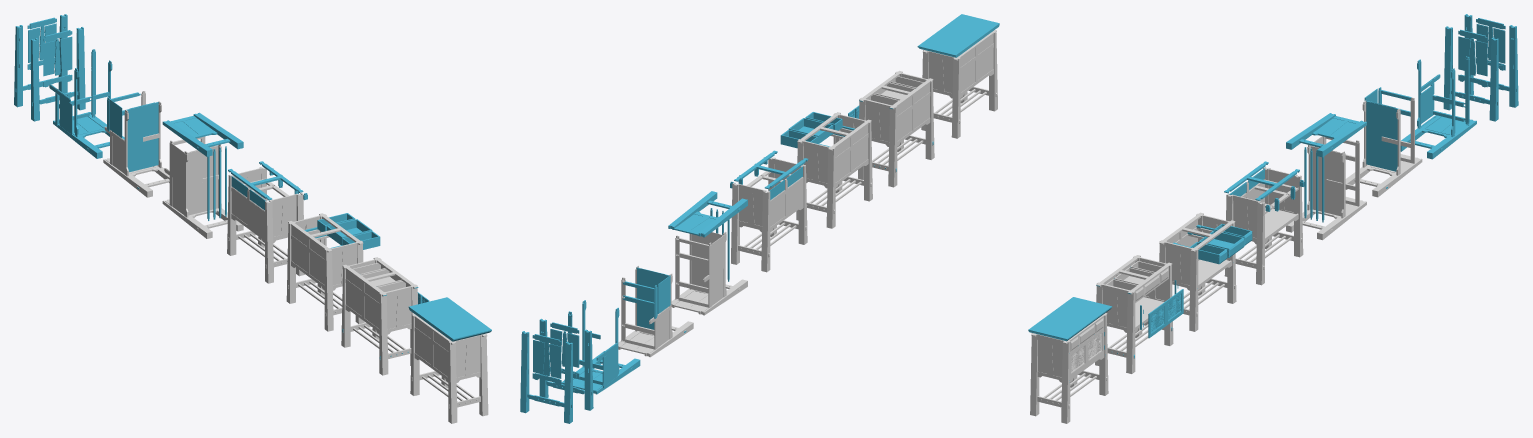
The model's file is build.glb.
3 views of the same model, side by side, from view 1: azimuth 30°, elevation 25°; view 2: azimuth 150°, elevation 25°; view 3: azimuth 330°, elevation 25° (orthographic). The views are drawn at different scales.
Parts seen in each view (by area): view 1: eight.003, six.072, four.021, seven.004, five.029, one.014, three.004, two.012; view 2: eight.003, six.072, five.029, four.021, seven.004, one.014, three.004, two.012; view 3: eight.003, seven.004, five.029, six.072, four.021, one.014, three.004, two.012.
Boxes of the visible parts, box(x1,y1,x2,y2) form: eight.003: box(408, 297, 491, 423); six.072: box(286, 213, 380, 331); four.021: box(162, 112, 243, 238); seven.004: box(341, 257, 429, 375); five.029: box(227, 161, 307, 283); one.014: box(14, 14, 85, 121); three.004: box(103, 91, 169, 197); two.012: box(49, 49, 124, 158); eight.003: box(917, 14, 999, 138); six.072: box(780, 112, 872, 228); five.029: box(730, 150, 808, 272); four.021: box(668, 191, 747, 315); seven.004: box(848, 70, 934, 187); one.014: box(520, 318, 593, 423); three.004: box(618, 265, 693, 357); two.012: box(561, 300, 640, 394); eight.003: box(1028, 297, 1112, 423); seven.004: box(1095, 255, 1183, 373); five.029: box(1224, 161, 1304, 285); six.072: box(1159, 212, 1252, 331); four.021: box(1286, 113, 1366, 240); one.014: box(1443, 14, 1518, 121); three.004: box(1345, 87, 1422, 197); two.012: box(1400, 56, 1476, 159).
Size of the model in its own units: 0.8308 by 1.12 by 9.98.
